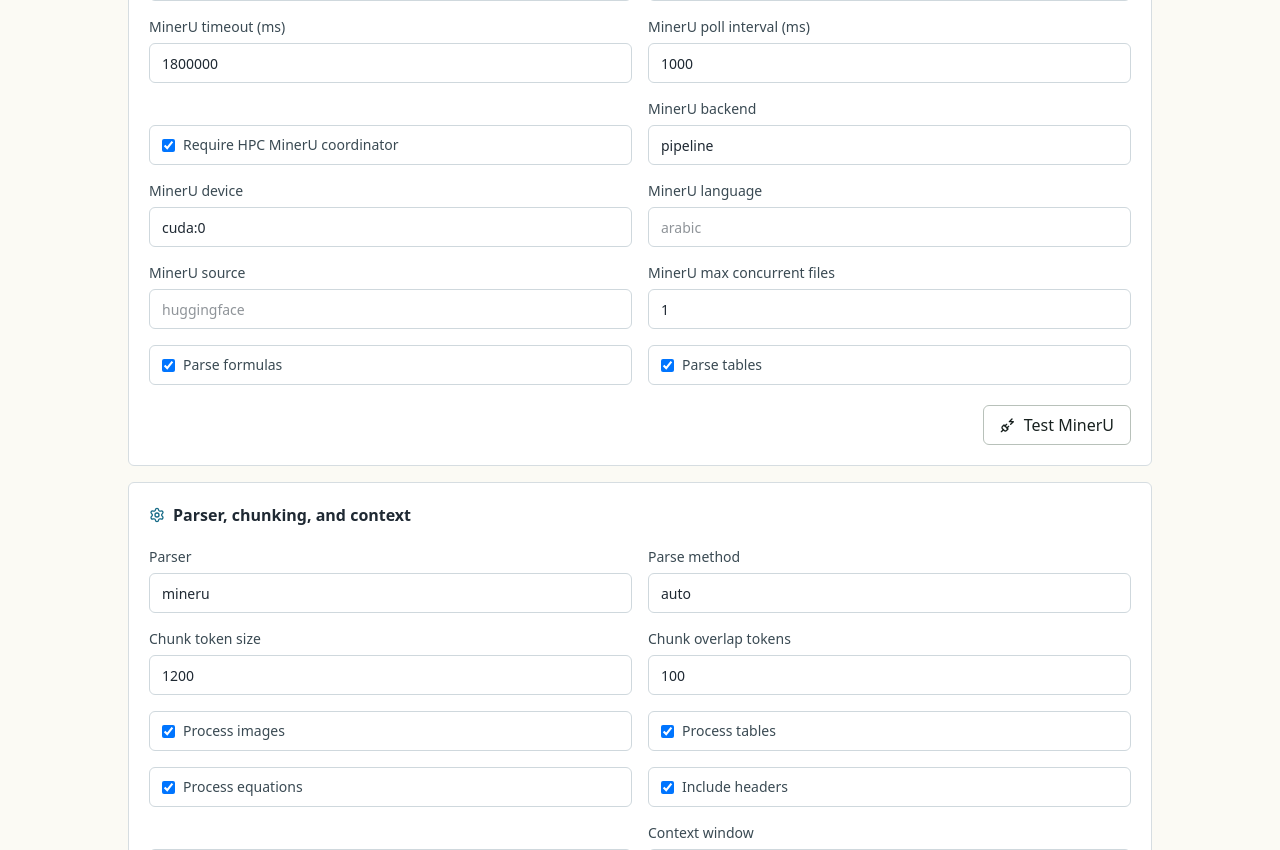
Scenario: SettingsPage provider sync › shows MinerU sidecar optimization details after test
This screenshot has width=1280, height=850.
(page scrolled)
Click the button "Test MinerU" at (1057, 425), box [983,405,1131,445]
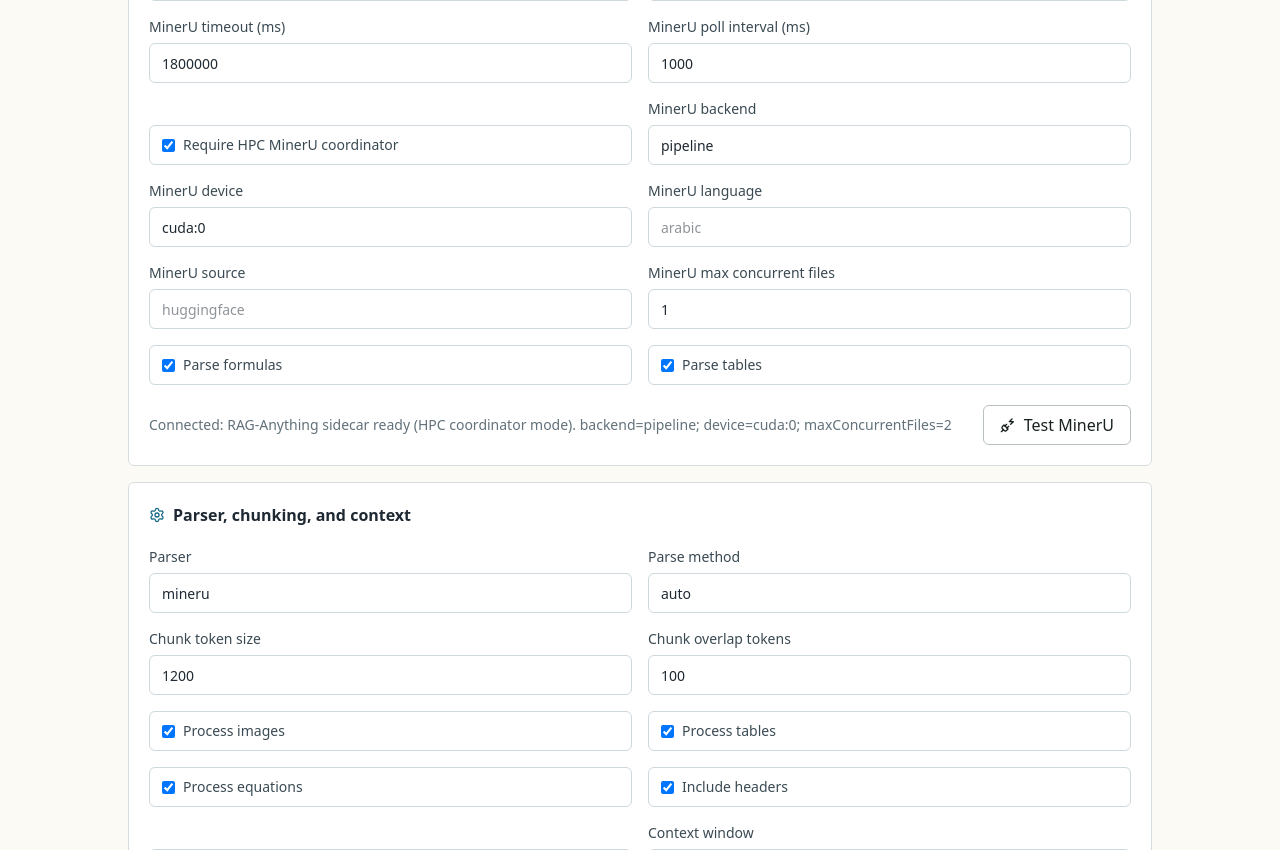
expect the text "maxConcurrentFiles=2" is shown: met, box [149,415,952,434]
